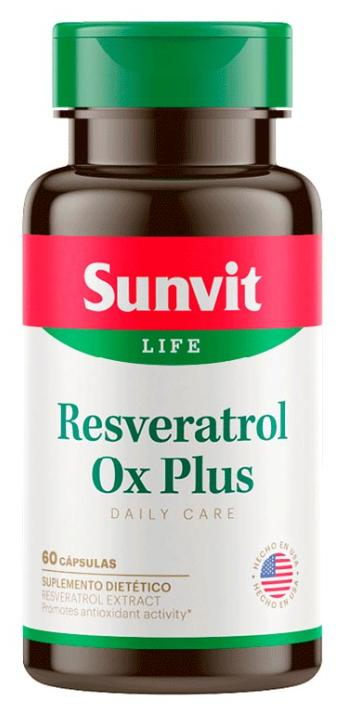brand: (81, 254, 270, 319)
net_weight: (40, 544, 121, 573)
product_name: (53, 394, 291, 499)
